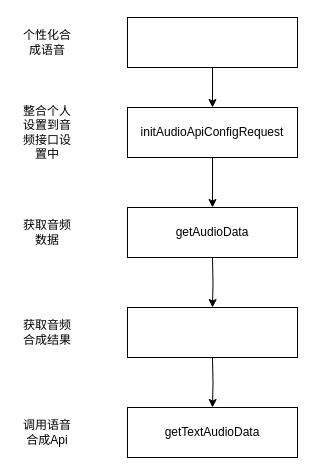
This 315x475 diagram has some shape labels left out. The box of each missing label's shape, as (x1, y1, x2, y2) in pixels:
customizeSynthesizeVoice: (126, 16, 298, 68)
getAudioSynthesizeResult: (126, 306, 298, 358)
